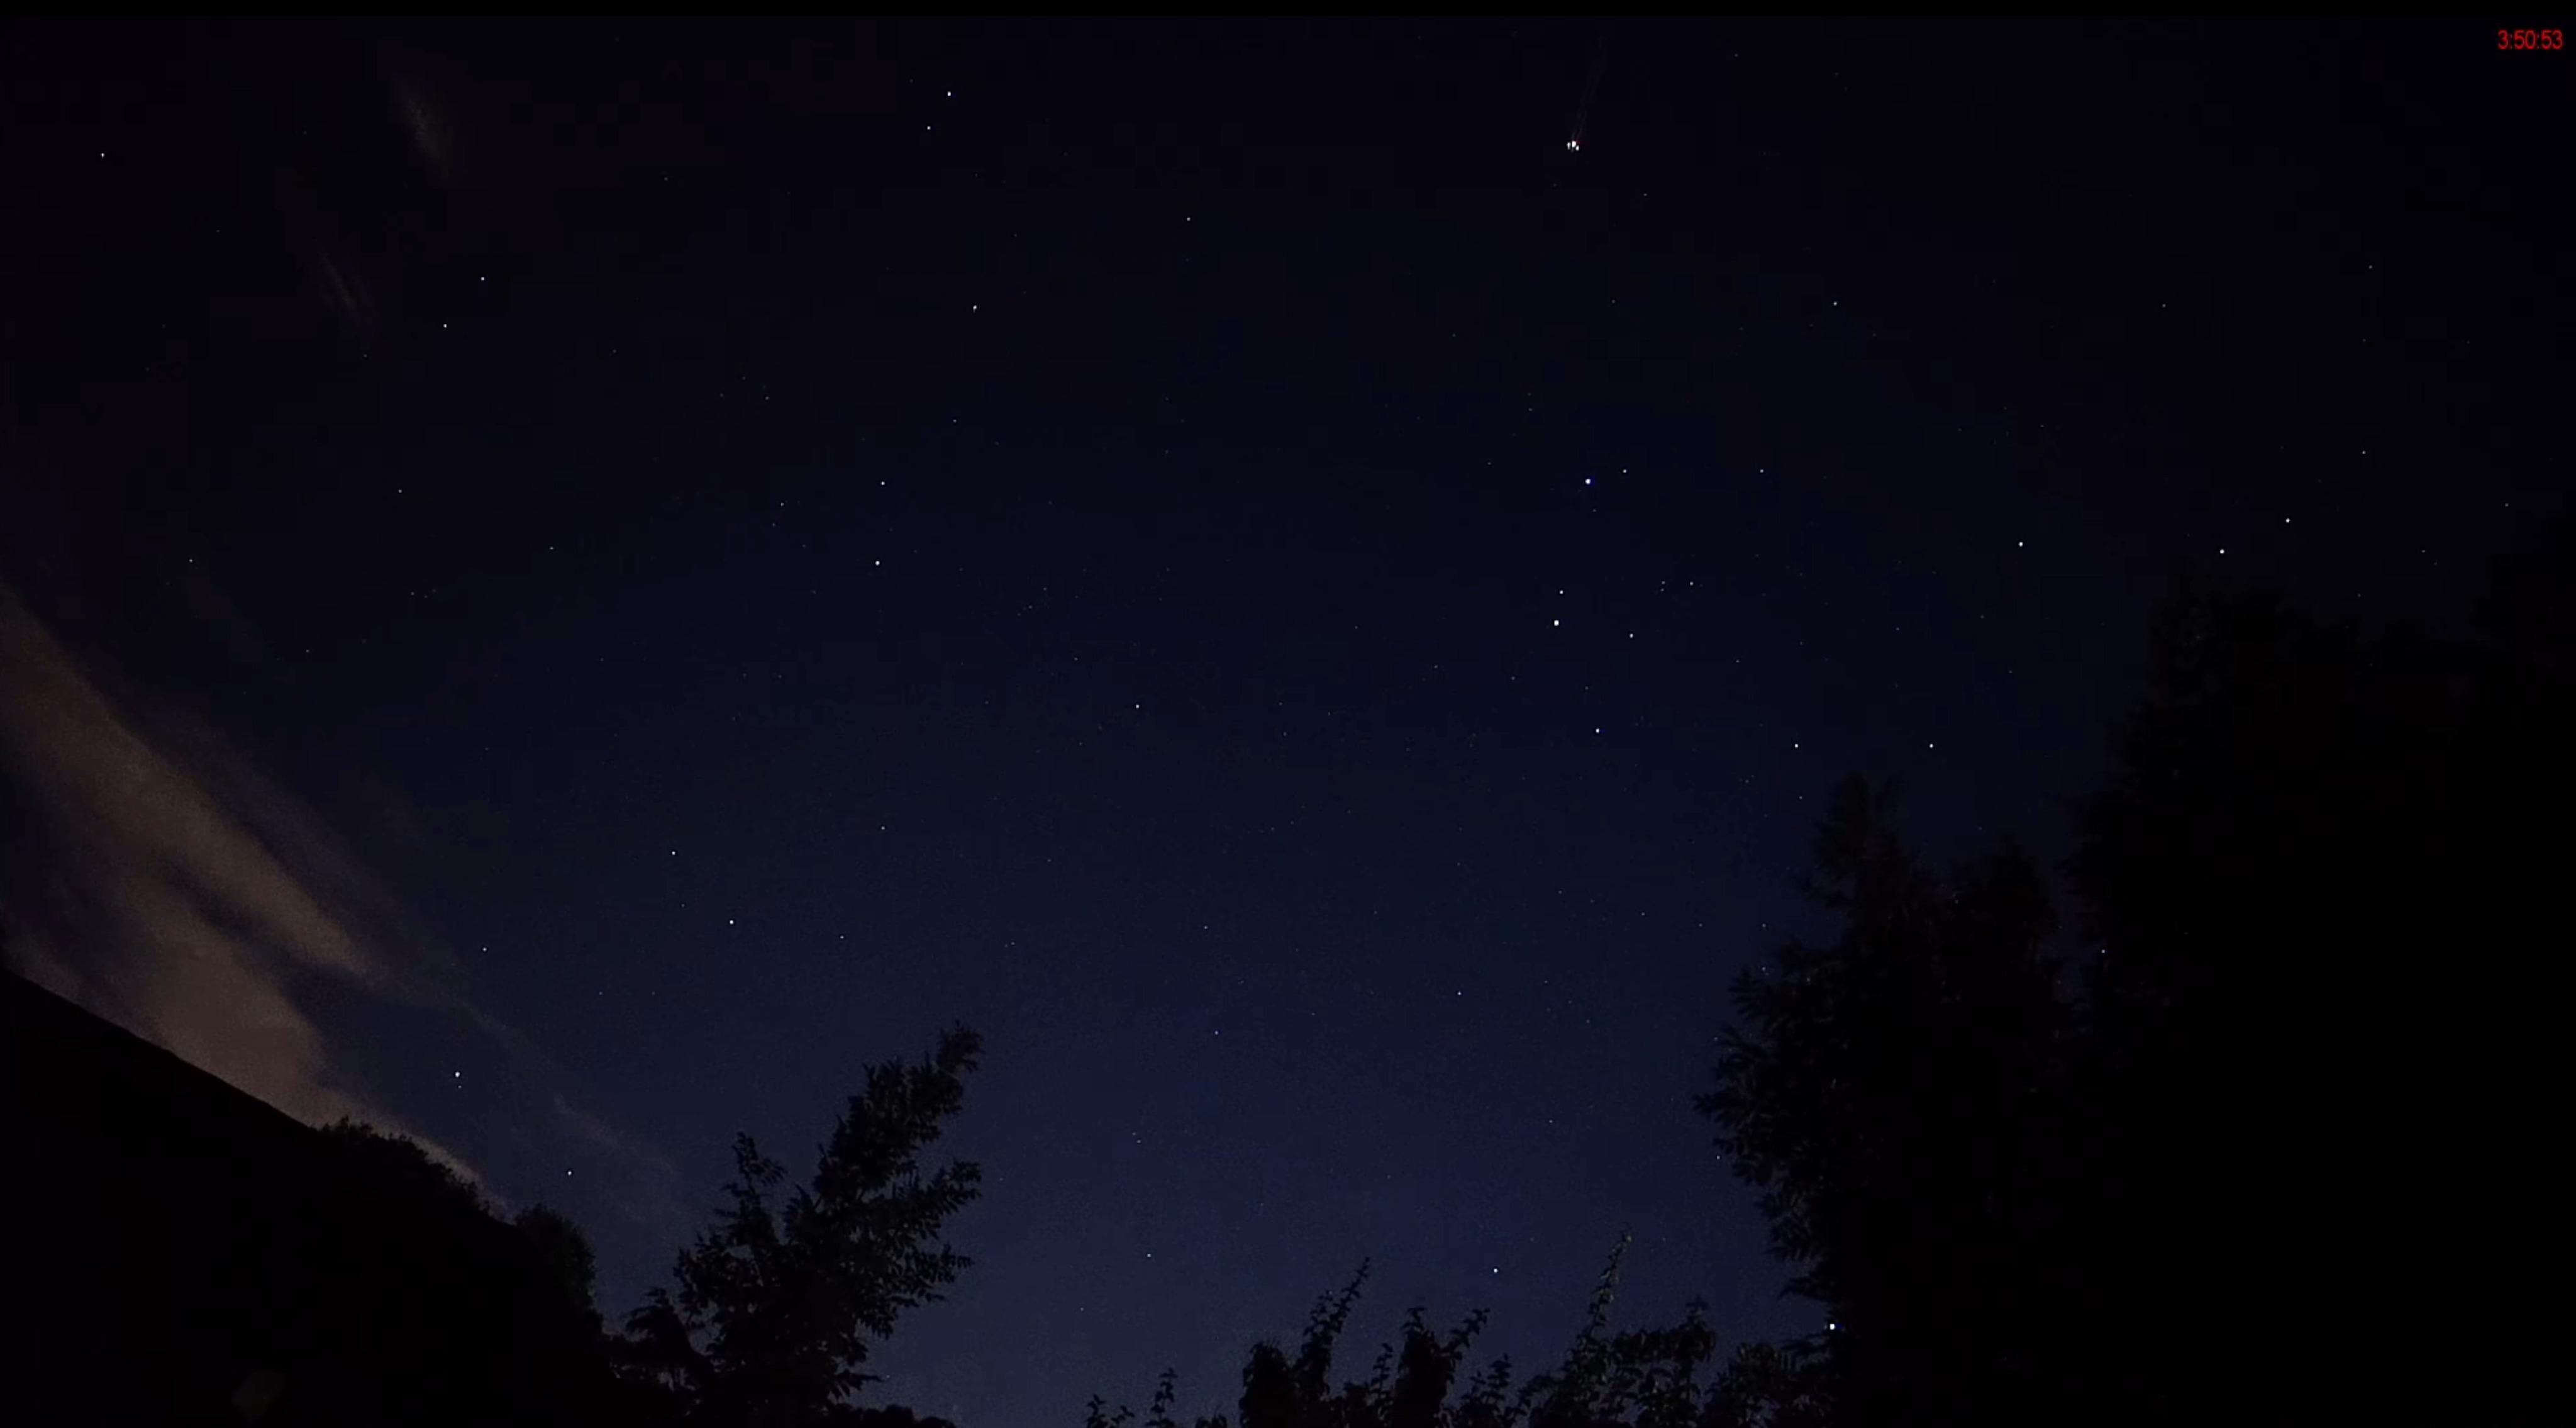Plane: (1534, 120, 1606, 167)
